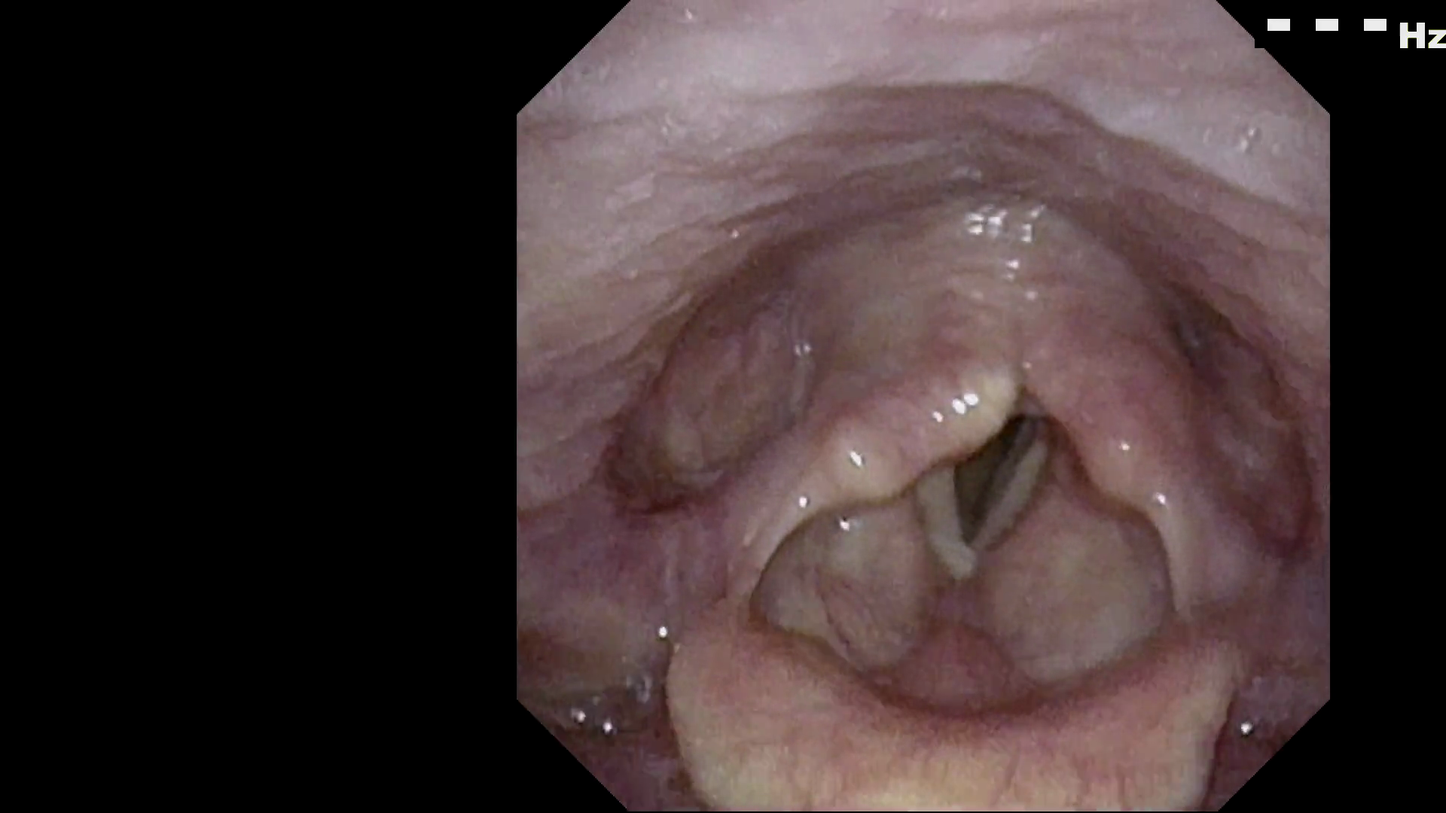epiglottis: (658, 642, 1226, 788)
trachea: (902, 400, 1068, 572)
